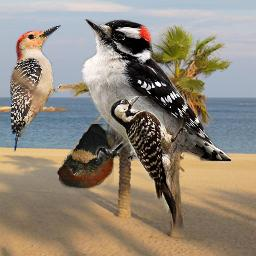Swallow: (57, 124, 114, 189)
Woodpecker: (80, 19, 231, 163), (110, 96, 189, 229), (10, 24, 61, 152)
